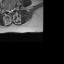CCS_stenosis: (10, 7, 11, 15)
LFS_normal: (13, 6, 15, 12)
LLS_normal: (11, 7, 13, 13)
RFS_normal: (6, 7, 8, 13)
RLS_normal: (8, 8, 10, 14)
